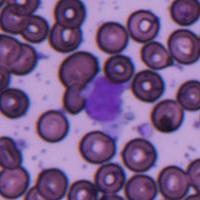L: (83, 75, 128, 126)
